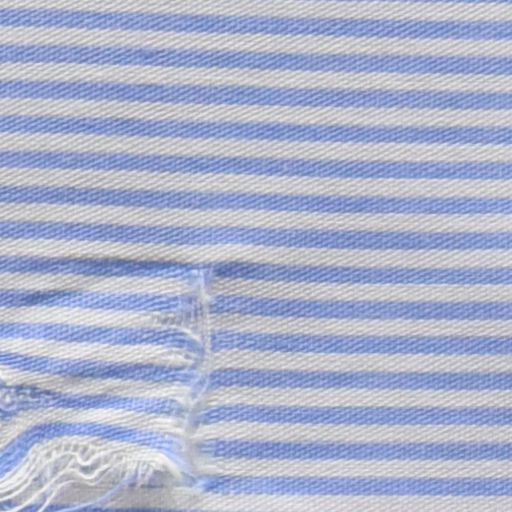defect: (1, 253, 230, 512)
